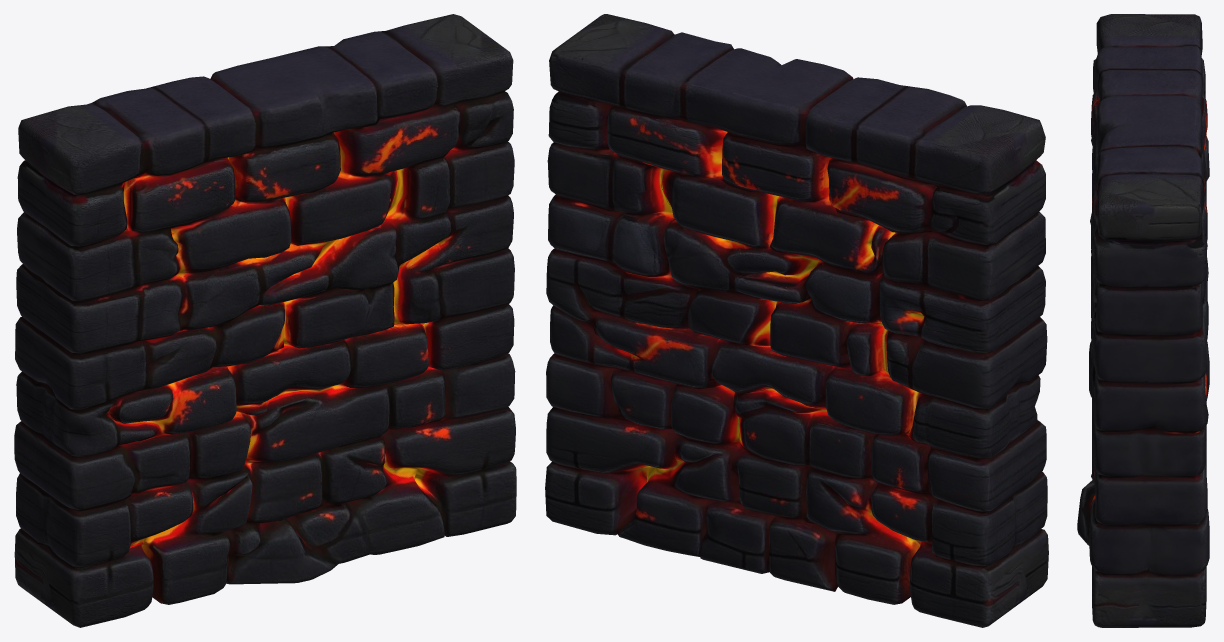
Rendered from kit-wall.glb.
The picture shows the model from 3 angles, left to right: view 1: azimuth 30°, elevation 25°; view 2: azimuth 150°, elevation 25°; view 3: azimuth 270°, elevation 25°; orthographic projection. The views are drawn at different scales.
Size of the model in its own units: 1.88 by 1.91 by 0.5362.
1 material, 1 textured.
